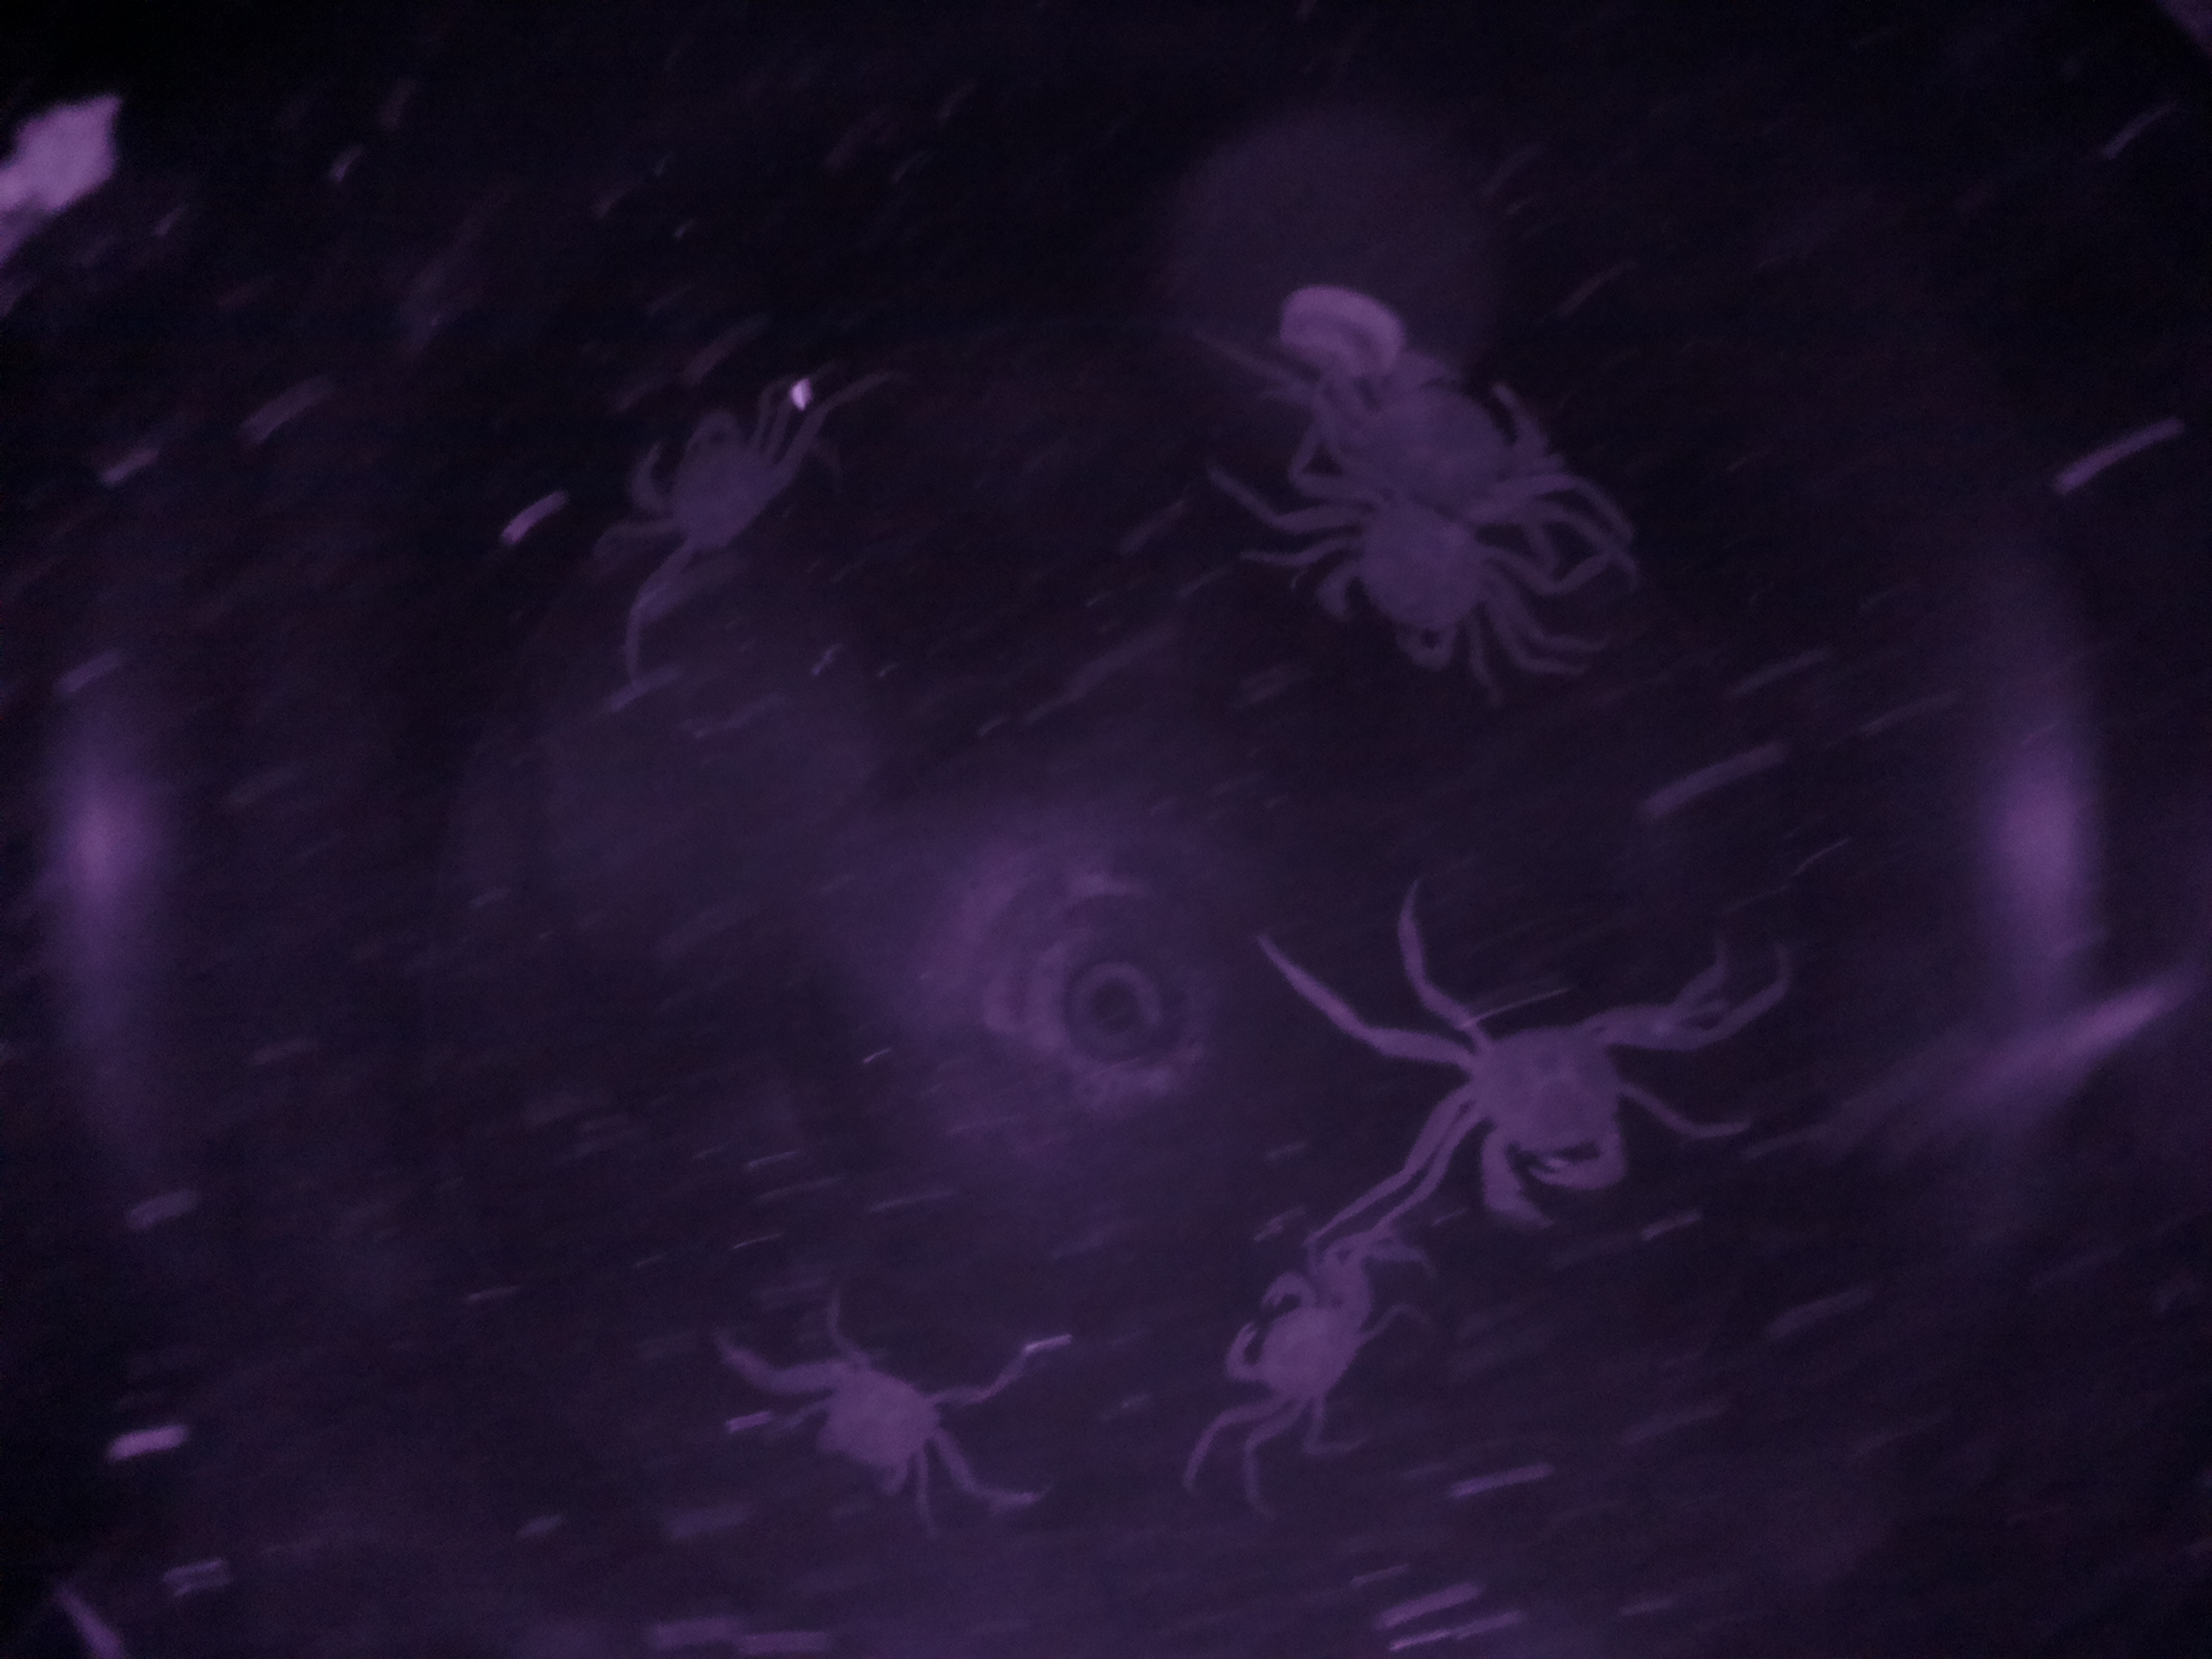Crab: (1393, 953, 1677, 1239), (1296, 462, 1564, 716), (742, 1314, 989, 1520), (1188, 1244, 1400, 1450)
